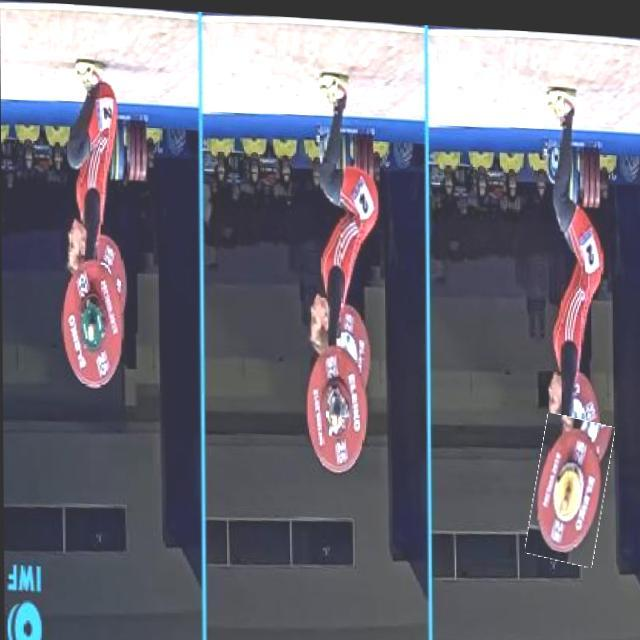barbell: (530, 408, 610, 559)
